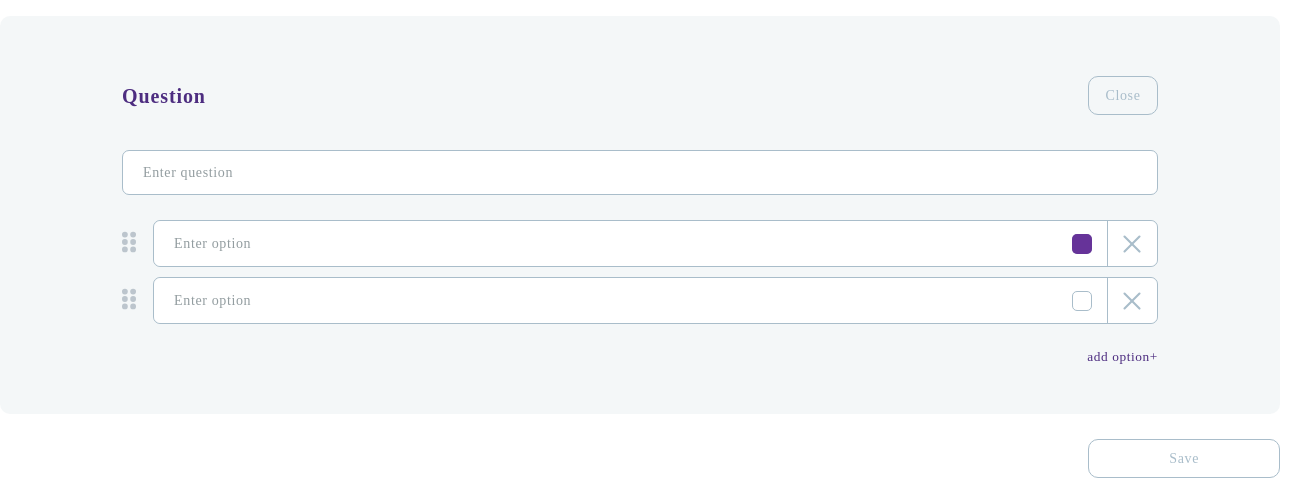
Test: Question Component › removes option
The image size is (1292, 495).
Click the 1st picture with alt text "close" at (1132, 244), box [1123,234,1141,252]
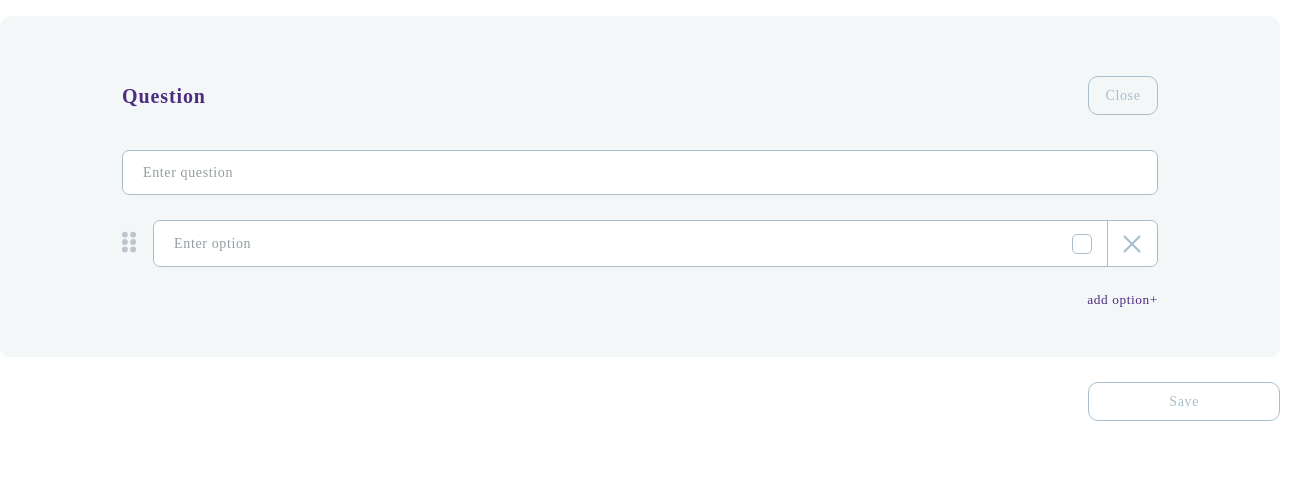
expect the number of fields with placeholder "Enter option" is 1: met, box [154,221,1057,266]
